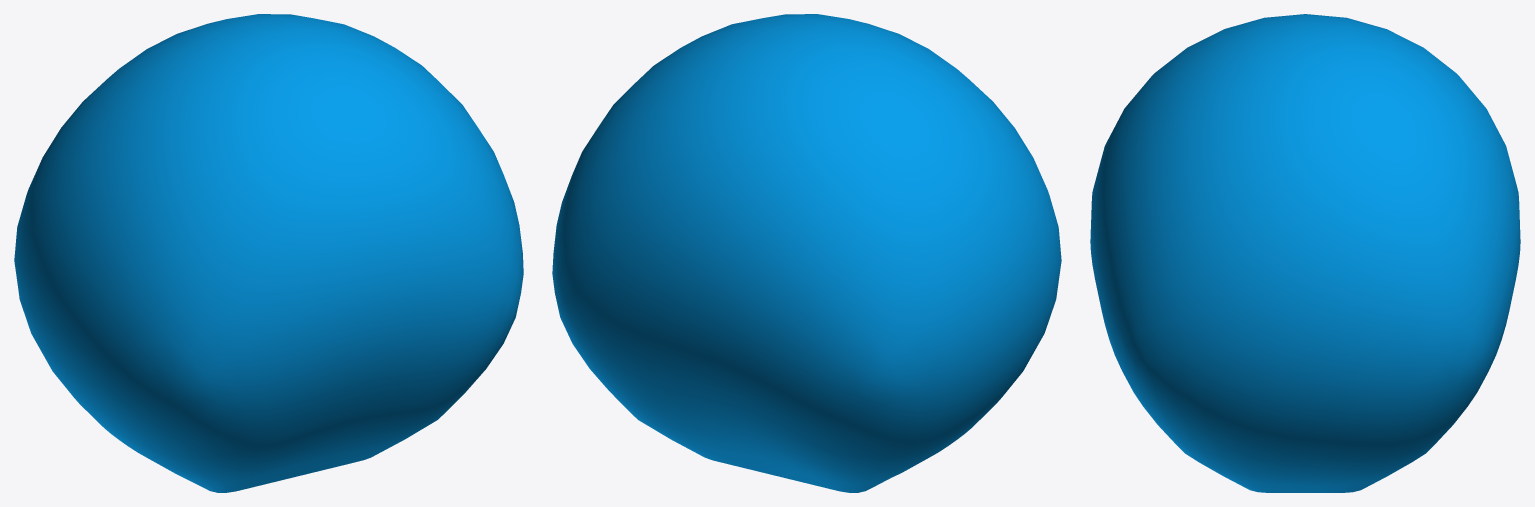
The model's file is hvs_quest_ballooncrate_balloon_pose2.fbx.
3 views of the same model, side by side, from view 1: azimuth 30°, elevation 25°; view 2: azimuth 150°, elevation 25°; view 3: azimuth 270°, elevation 25° (orthographic).
Parts seen in each view (by area): view 1: hvs_quest_ballooncrate_balloon_pose2; view 2: hvs_quest_ballooncrate_balloon_pose2; view 3: hvs_quest_ballooncrate_balloon_pose2.
Part boxes in pixels (<box>): hvs_quest_ballooncrate_balloon_pose2: <box>14,14,523,492</box>; hvs_quest_ballooncrate_balloon_pose2: <box>552,14,1061,492</box>; hvs_quest_ballooncrate_balloon_pose2: <box>1090,14,1520,492</box>.
Size of the model in its own units: 17.6 by 16.38 by 15.36.
